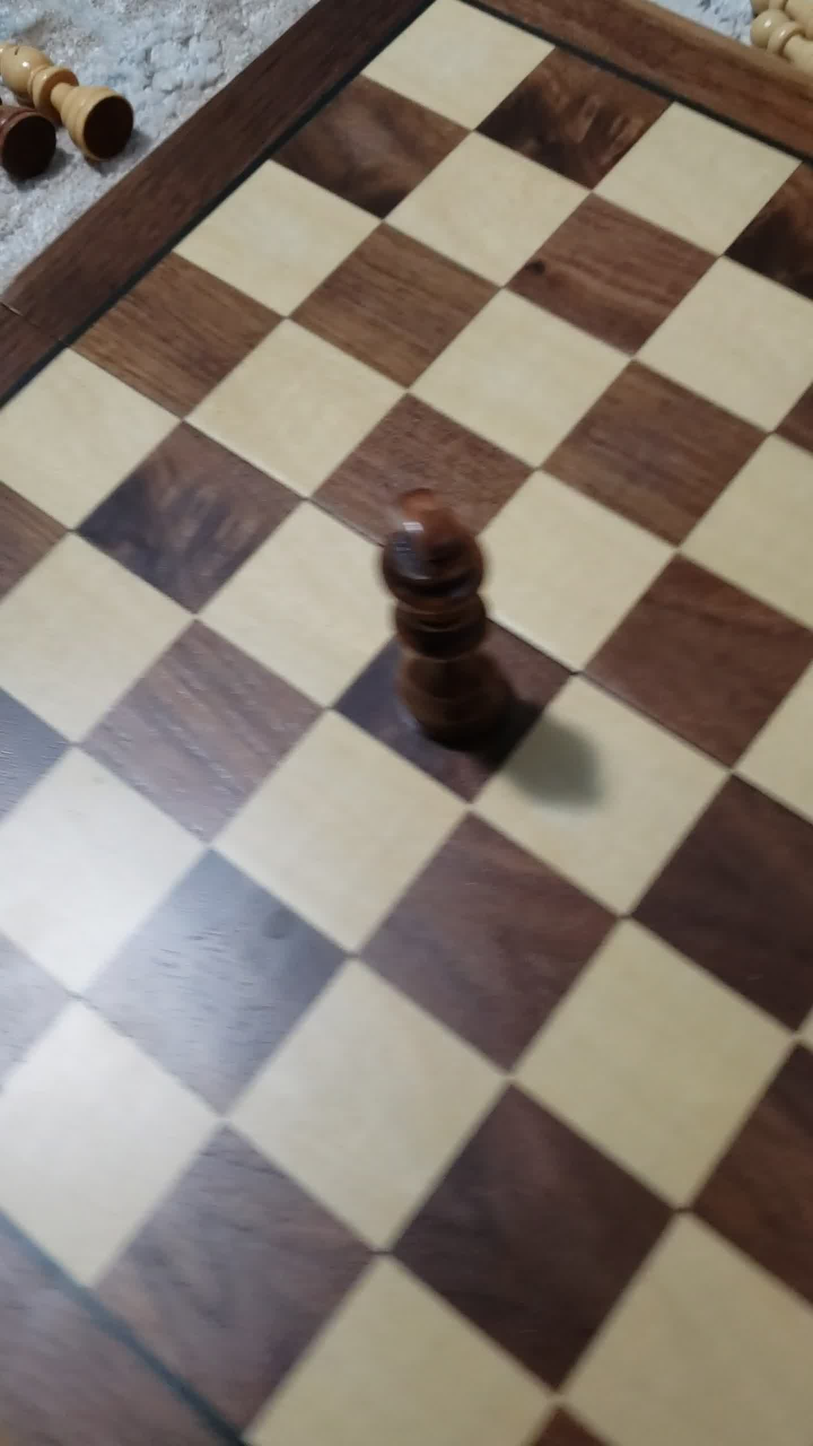black-king: (319, 475, 561, 773)
